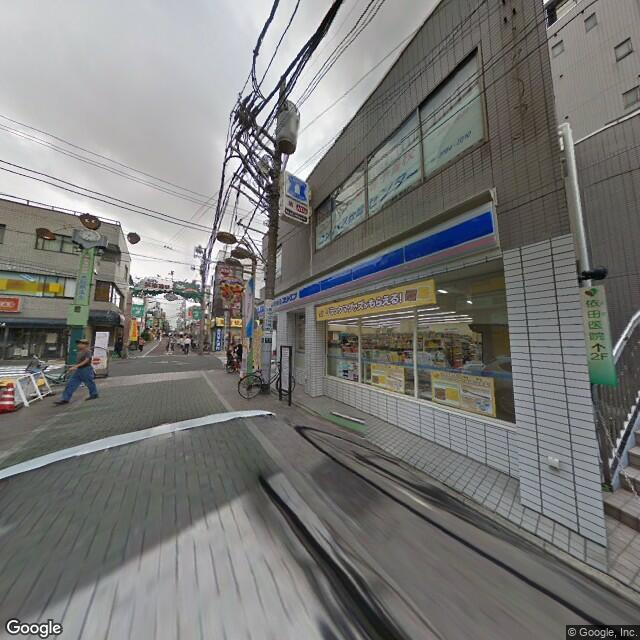lawson: (271, 198, 502, 318), (284, 172, 308, 206)
